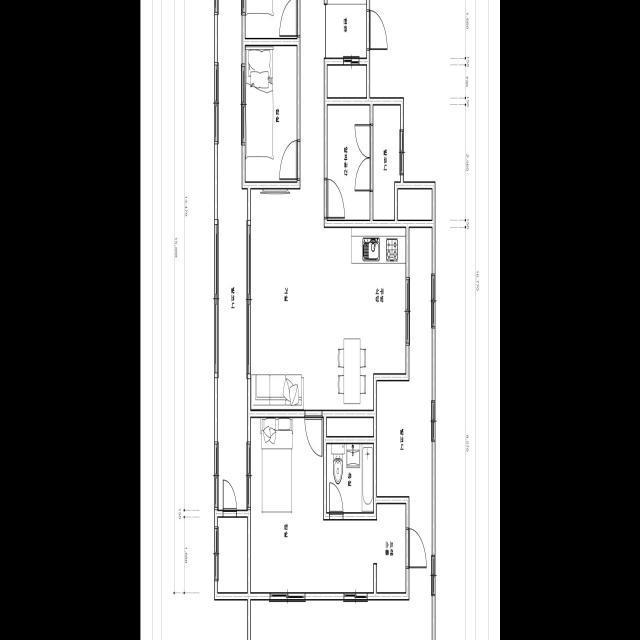background: (140, 0, 500, 640)
space_balconi: (250, 228, 431, 640), (217, 0, 247, 510), (373, 105, 400, 220)
space_bedroom: (250, 418, 377, 592), (245, 46, 297, 182), (245, 0, 296, 38)
space_dressroom: (377, 504, 405, 592)
space_front: (325, 0, 366, 97)
space_kitchen: (324, 228, 405, 410)
space_living_room: (250, 0, 323, 410)
space_other: (327, 105, 369, 220), (217, 518, 247, 592), (398, 189, 431, 220), (326, 418, 373, 436)
space_toilet: (326, 444, 373, 513)
